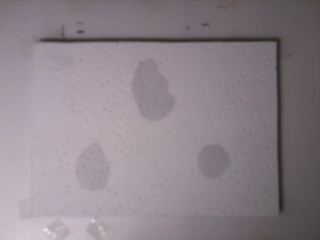Water_detected: (127, 64, 181, 122), (75, 145, 119, 190), (195, 147, 227, 180)
